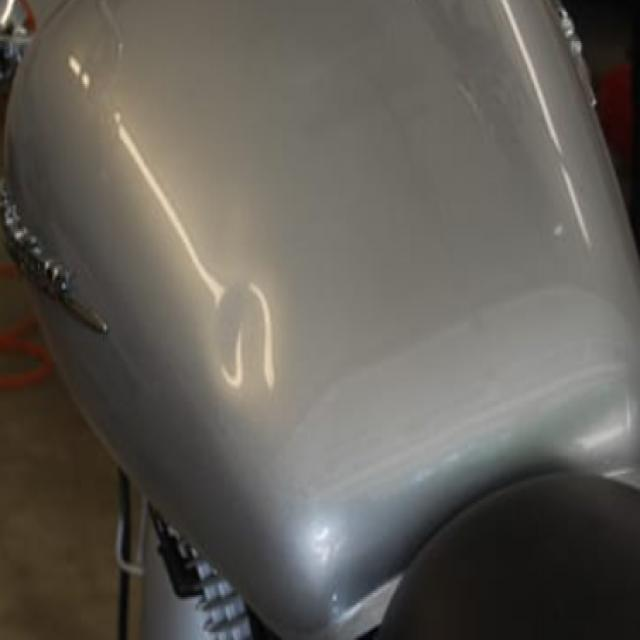dents: (203, 281, 292, 410)
